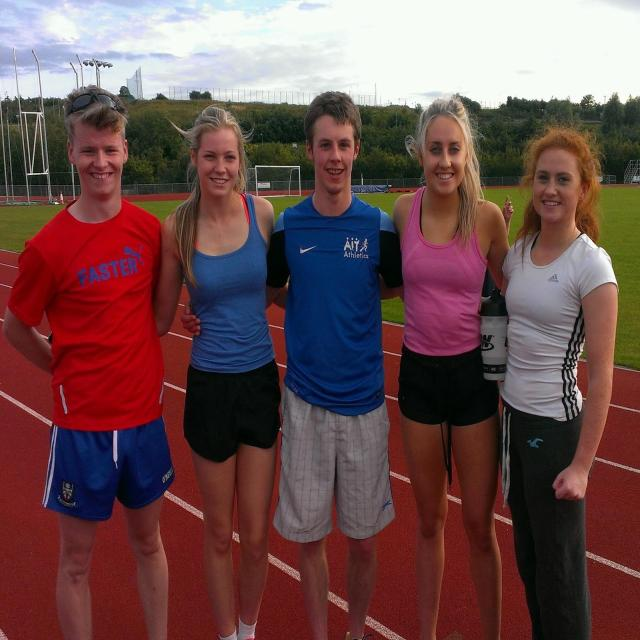body: (0, 80, 228, 640), (151, 103, 290, 640), (270, 88, 404, 640), (378, 95, 513, 640), (499, 127, 620, 639), (480, 191, 514, 331)
